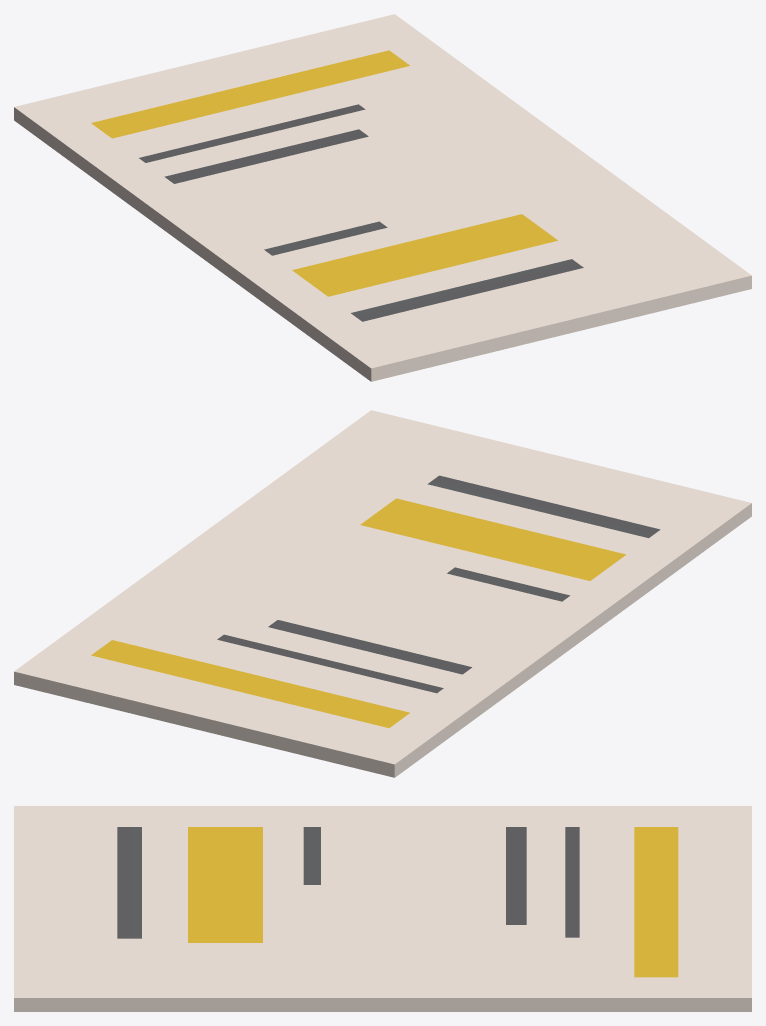
File: Menu_Mesh.fbx
3 views of the same model, one above another, from view 1: azimuth 30°, elevation 25°; view 2: azimuth 150°, elevation 25°; view 3: azimuth 270°, elevation 25° (orthographic). The views are drawn at different scales.
Visible parts, largest first — view 1: Menu_Mesh; view 2: Menu_Mesh; view 3: Menu_Mesh.
Boxes of the visible parts, <box> form: Menu_Mesh: <box>14,14,751,381</box>; Menu_Mesh: <box>14,410,751,777</box>; Menu_Mesh: <box>14,806,751,1011</box>.
Size of the model in its own units: 18.03 by 0.6066 by 29.29.
1 material, 1 textured.
